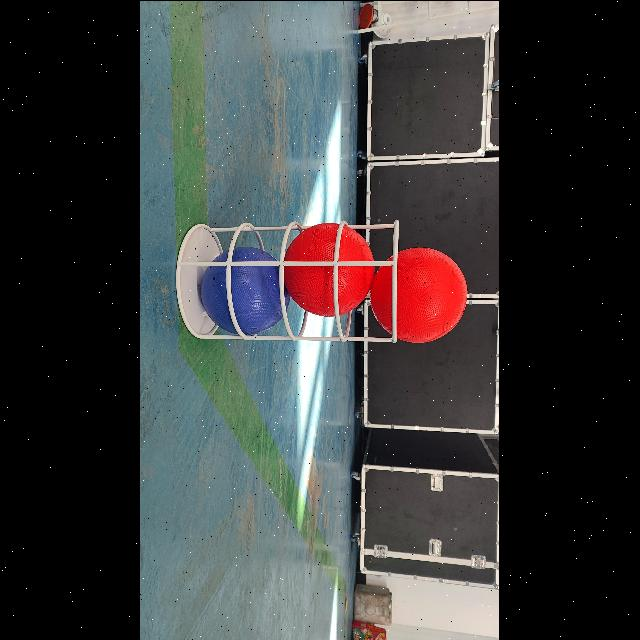B: (200, 246, 292, 334)
R: (373, 246, 469, 342), (282, 222, 376, 314)
S: (170, 216, 404, 348)
